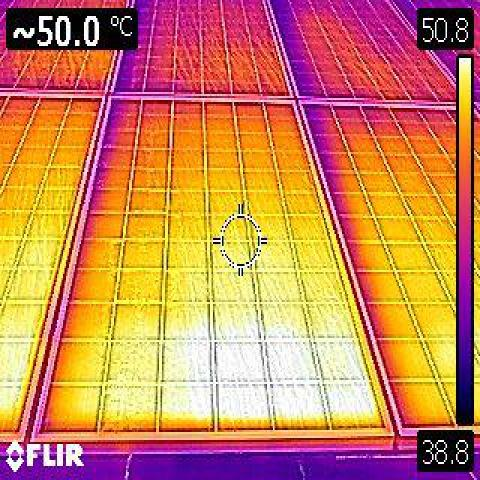fault: (166, 322, 375, 420), (0, 326, 36, 416)
